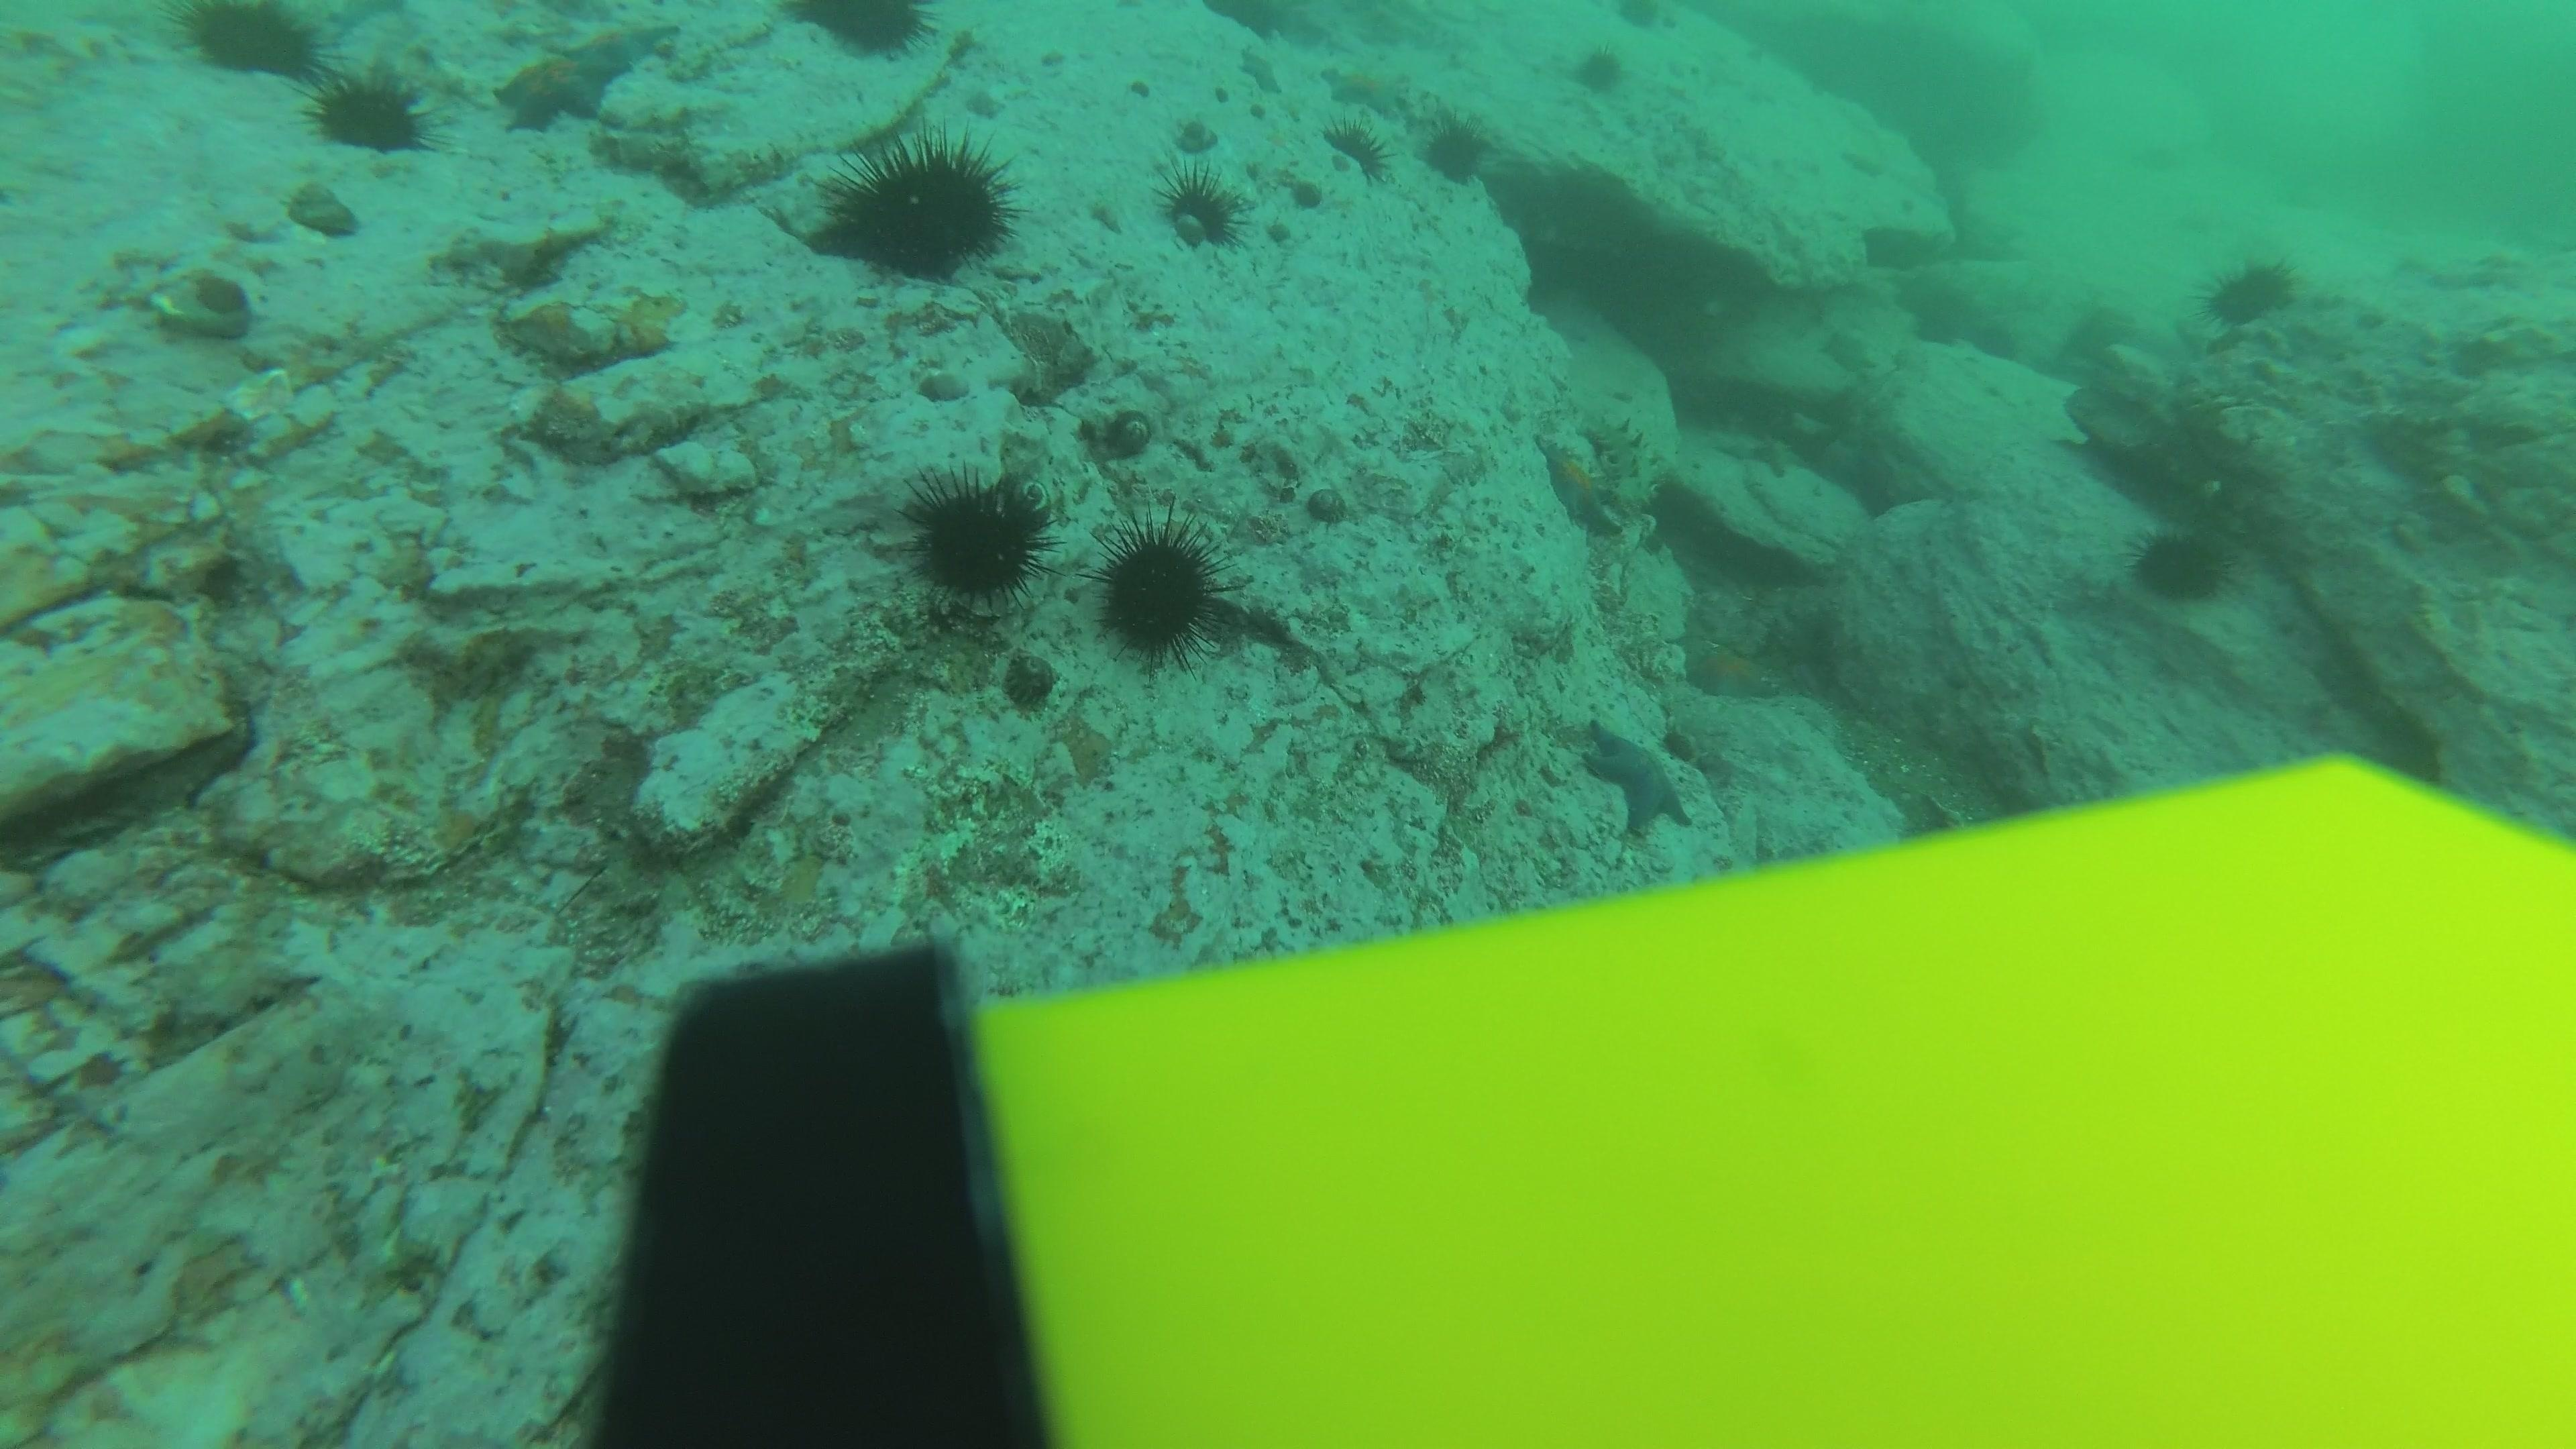echinus: (814, 129, 1019, 283), (897, 464, 1053, 605), (1090, 513, 1230, 667), (173, 2, 327, 88), (306, 64, 435, 159), (787, 0, 938, 64), (2127, 522, 2235, 607), (2203, 242, 2302, 322), (1157, 168, 1246, 251), (1421, 113, 1497, 189), (1322, 115, 1391, 182), (1569, 41, 1629, 97)
holothurian: (1587, 412, 1667, 518)
starfish: (488, 16, 681, 136), (1576, 718, 1702, 840), (1532, 426, 1622, 538), (1681, 632, 1787, 706), (1332, 53, 1428, 113), (1707, 425, 1803, 481)
